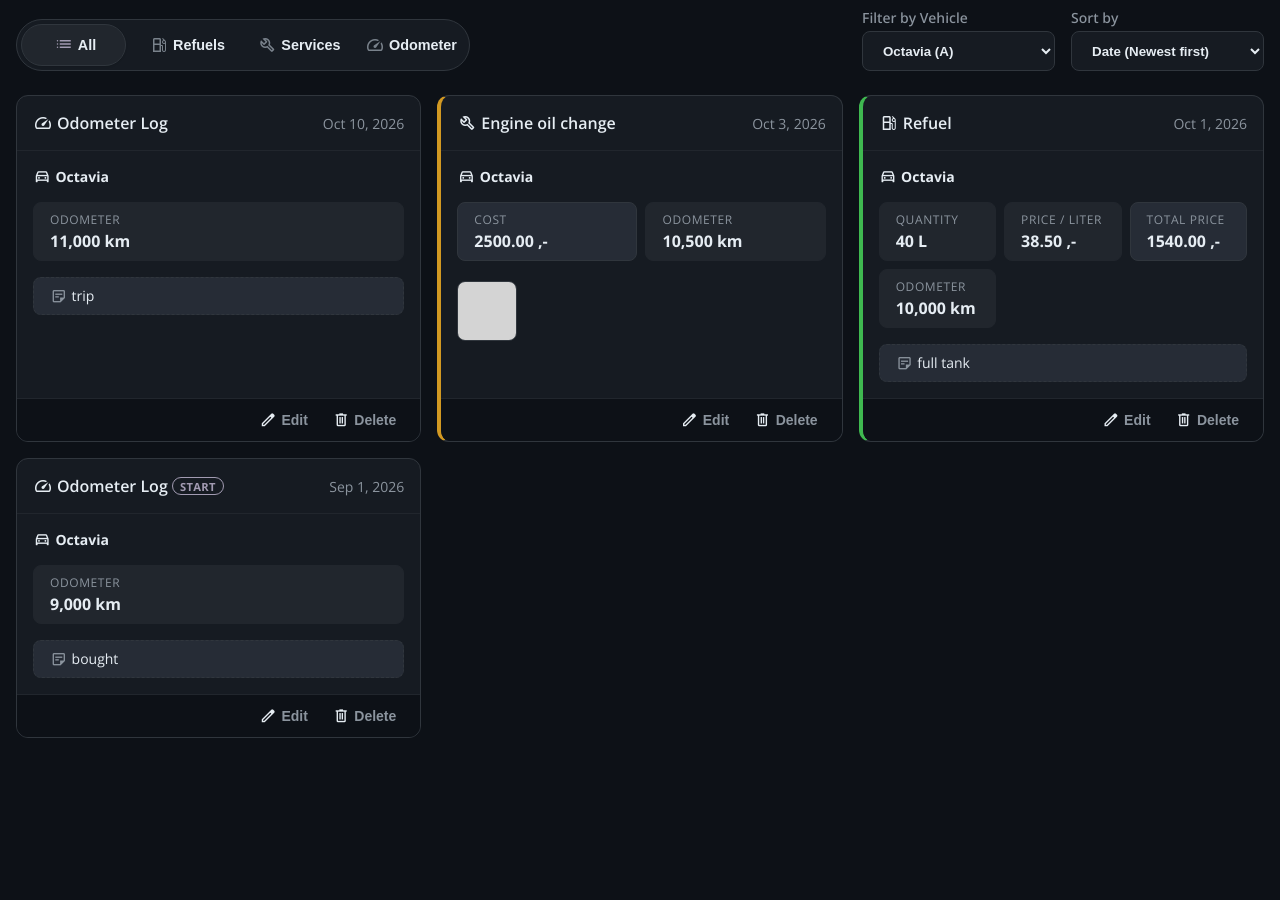
Test: History view › start odometer record › shows the option again when the record is moved to a vehicle without a start record
Click the button with class "btn-edit" below "trip" at (283, 420), box [251, 407, 316, 433]
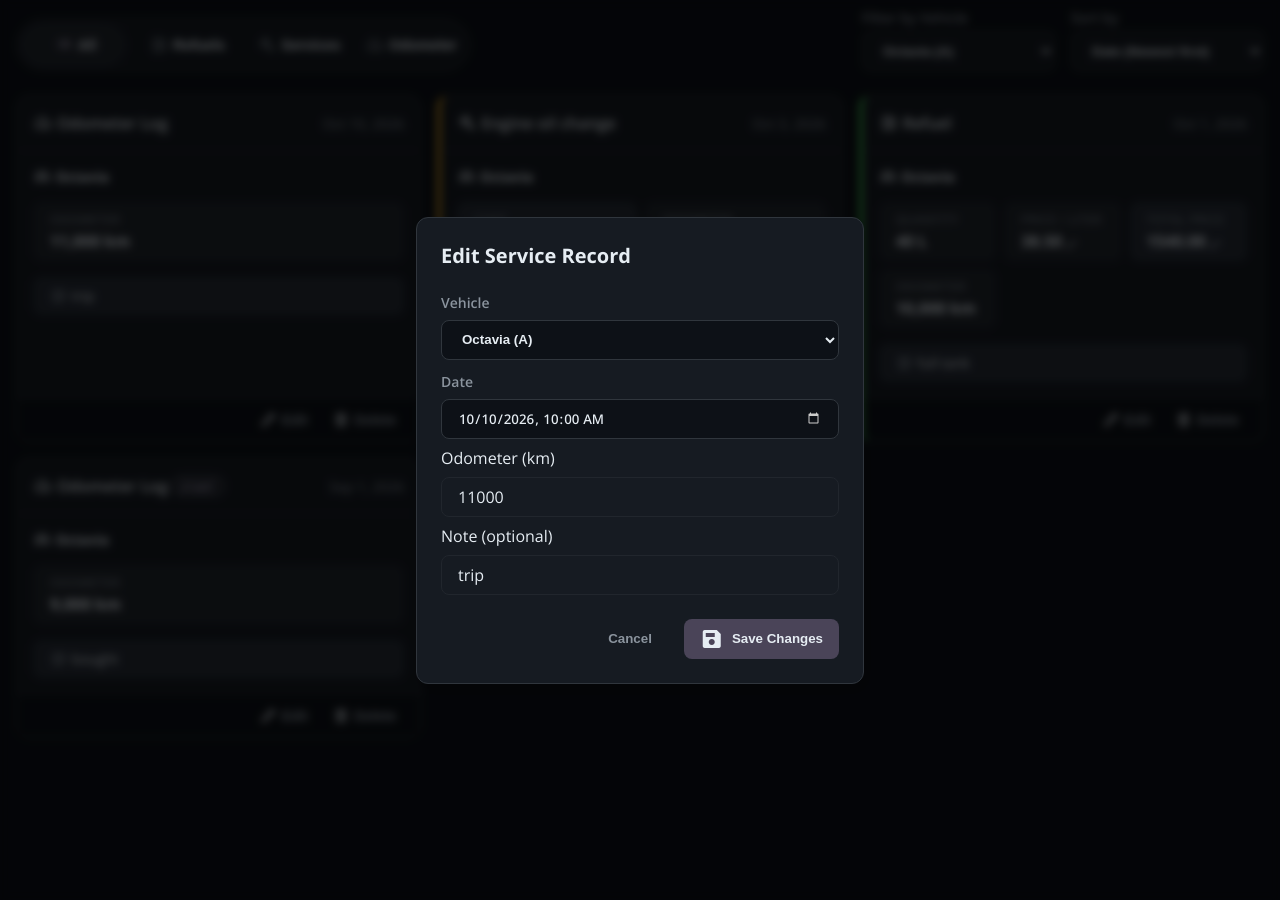
Select "Fabia (B)" in the dropdown with id "edit_hist_vehicle" at (640, 340), box [441, 320, 839, 360]
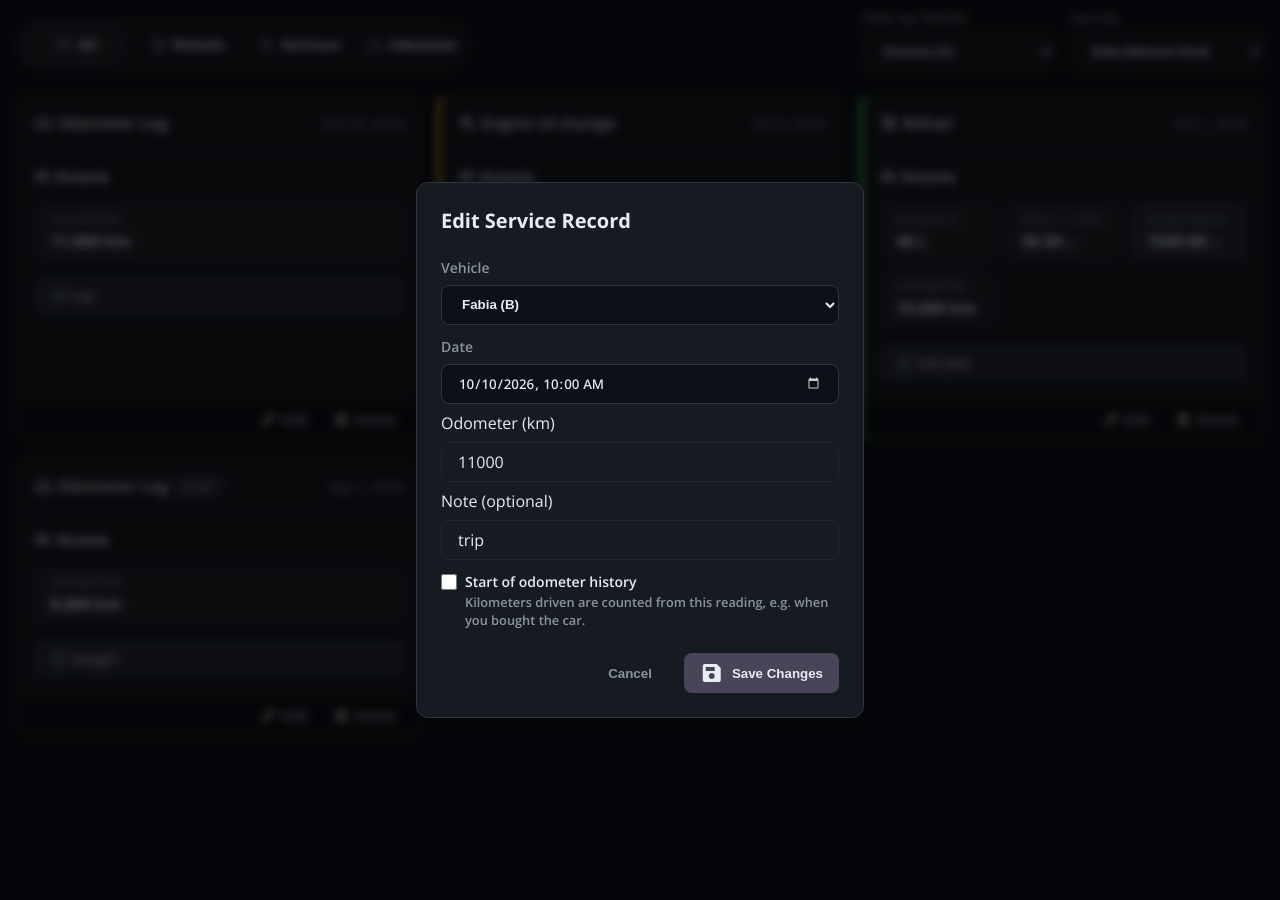
Now the checkbox with id "edit_hist_is_start" is shown, box [441, 574, 457, 590]
